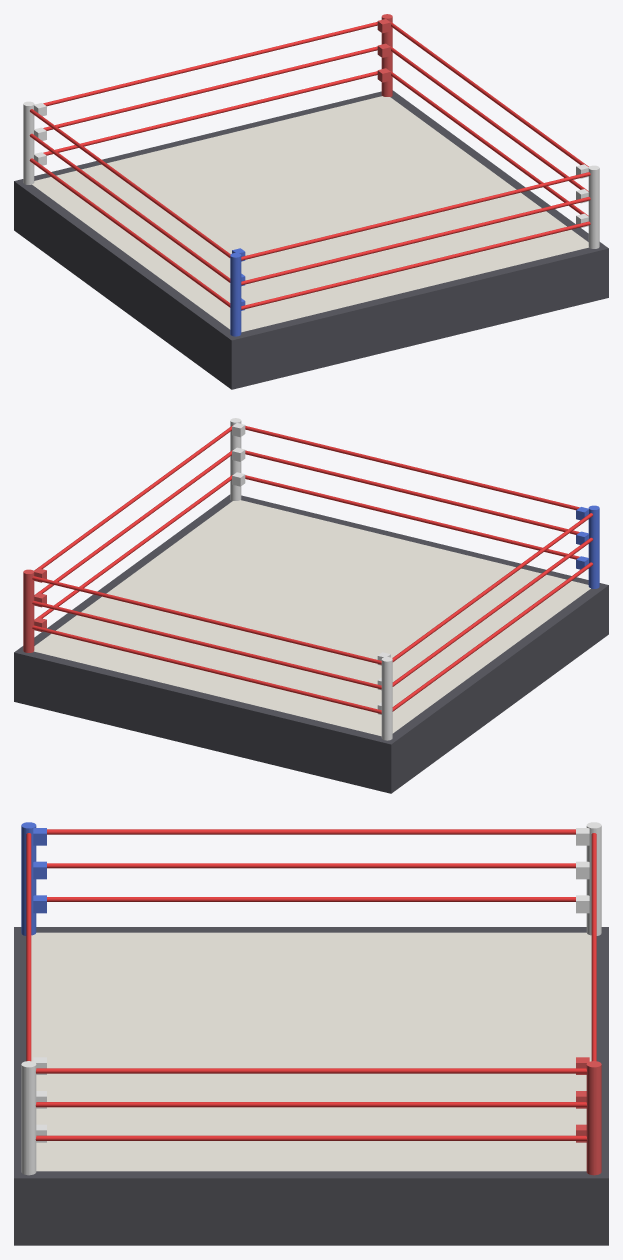
The model's file is ring_arena.glb.
3 renders of one model, top to bottom at view 1: azimuth 30°, elevation 25°; view 2: azimuth 150°, elevation 25°; view 3: azimuth 270°, elevation 25°, orthographic. The views are drawn at different scales.
Parts seen in each view (by area): view 1: RingCanvas, RingPlatform, Rope_NS_-3.8_0.5, Rope_NS_-3.8_1.5, Rope_NS_-3.8_1.0, Rope_NS_3.8_1.5, Rope_NS_3.8_1.0, Rope_NS_3.8_0.5, Rope_EW_-3.8_0.5, Rope_EW_-3.8_1.0, Rope_EW_-3.8_1.5, Rope_EW_3.8_1.5 (+6 smaller); view 2: RingCanvas, RingPlatform, Rope_NS_3.8_0.5, Rope_NS_3.8_1.5, Rope_NS_3.8_1.0, Rope_NS_-3.8_1.5, Rope_NS_-3.8_1.0, Rope_NS_-3.8_0.5, Rope_EW_-3.8_0.5, Rope_EW_-3.8_1.0, Rope_EW_-3.8_1.5, Rope_EW_3.8_1.5 (+6 smaller); view 3: RingCanvas, RingPlatform, Rope_EW_3.8_0.5, Rope_EW_3.8_1.0, Rope_EW_3.8_1.5, Rope_EW_-3.8_1.0, Rope_EW_-3.8_1.5, Rope_EW_-3.8_0.5, PostRed, PostWhite2, Rope_NS_-3.8_1.5, Rope_NS_3.8_1.5 (+2 smaller).
Boxes of the visible parts, x1=… form: RingCanvas: x1=32, y1=96, x2=588, y2=332; RingPlatform: x1=14, y1=90, x2=608, y2=389; Rope_NS_-3.8_0.5: x1=241, y1=221, x2=590, y2=309; Rope_NS_-3.8_1.5: x1=241, y1=172, x2=590, y2=260; Rope_NS_-3.8_1.0: x1=241, y1=197, x2=590, y2=285; Rope_NS_3.8_1.5: x1=43, y1=22, x2=377, y2=106; Rope_NS_3.8_1.0: x1=43, y1=46, x2=377, y2=130; Rope_NS_3.8_0.5: x1=43, y1=71, x2=377, y2=155; Rope_EW_-3.8_0.5: x1=29, y1=158, x2=230, y2=307; Rope_EW_-3.8_1.0: x1=29, y1=133, x2=230, y2=282; Rope_EW_-3.8_1.5: x1=30, y1=109, x2=230, y2=257; Rope_EW_3.8_1.5: x1=390, y1=21, x2=588, y2=166; RingCanvas: x1=34, y1=500, x2=590, y2=736; RingPlatform: x1=14, y1=494, x2=608, y2=793; Rope_NS_3.8_0.5: x1=32, y1=625, x2=381, y2=713; Rope_NS_3.8_1.5: x1=32, y1=576, x2=381, y2=664; Rope_NS_3.8_1.0: x1=32, y1=601, x2=381, y2=689; Rope_NS_-3.8_1.5: x1=245, y1=426, x2=579, y2=510; Rope_NS_-3.8_1.0: x1=245, y1=450, x2=579, y2=534; Rope_NS_-3.8_0.5: x1=245, y1=475, x2=579, y2=559; Rope_EW_-3.8_0.5: x1=392, y1=562, x2=593, y2=711; Rope_EW_-3.8_1.0: x1=392, y1=537, x2=593, y2=686; Rope_EW_-3.8_1.5: x1=392, y1=513, x2=592, y2=661; Rope_EW_3.8_1.5: x1=34, y1=425, x2=232, y2=570; RingCanvas: x1=31, y1=932, x2=591, y2=1171; RingPlatform: x1=14, y1=927, x2=608, y2=1245; Rope_EW_3.8_0.5: x1=35, y1=1135, x2=587, y2=1140; Rope_EW_3.8_1.0: x1=35, y1=1102, x2=587, y2=1107; Rope_EW_3.8_1.5: x1=36, y1=1068, x2=586, y2=1073; Rope_EW_-3.8_1.0: x1=47, y1=863, x2=575, y2=868; Rope_EW_-3.8_1.5: x1=47, y1=829, x2=575, y2=834; Rope_EW_-3.8_0.5: x1=47, y1=897, x2=575, y2=901; PostRed: x1=586, y1=1061, x2=601, y2=1175; PostWhite2: x1=21, y1=1061, x2=36, y2=1175; Rope_NS_-3.8_1.5: x1=26, y1=833, x2=31, y2=1061; Rope_NS_3.8_1.5: x1=591, y1=833, x2=596, y2=1061.
Size of what is drawn, in the model's own units: 8 by 2.6 by 8.
